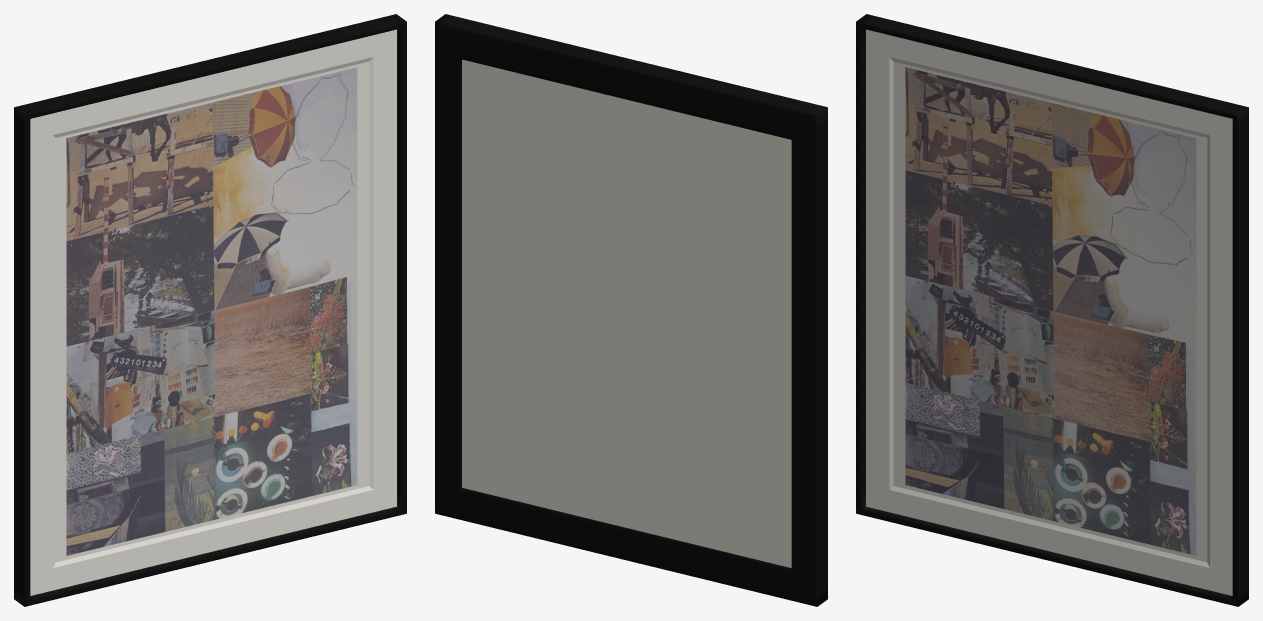
The model's file is distantpart_export.glb.
The picture shows the model from 3 angles, left to right: view 1: azimuth 30°, elevation 25°; view 2: azimuth 150°, elevation 25°; view 3: azimuth 330°, elevation 25°; orthographic projection.
Visible parts, largest first — view 1: most_distant_visible_part_of_the_sea, frame_paper, frame_border; view 2: frame_paper, frame_border; view 3: most_distant_visible_part_of_the_sea, frame_paper, frame_border.
Part boxes in pixels (x1,y1,x2,y2): most_distant_visible_part_of_the_sea: [66, 67, 357, 555]; frame_paper: [30, 29, 396, 595]; frame_border: [14, 14, 406, 606]; frame_paper: [462, 59, 791, 567]; frame_border: [435, 14, 827, 606]; most_distant_visible_part_of_the_sea: [905, 67, 1196, 555]; frame_paper: [866, 29, 1232, 595]; frame_border: [856, 14, 1248, 606].
Bounding box in the file's own units: 0.9577 × 1.18 × 0.0453.
4 materials, 1 textured.
